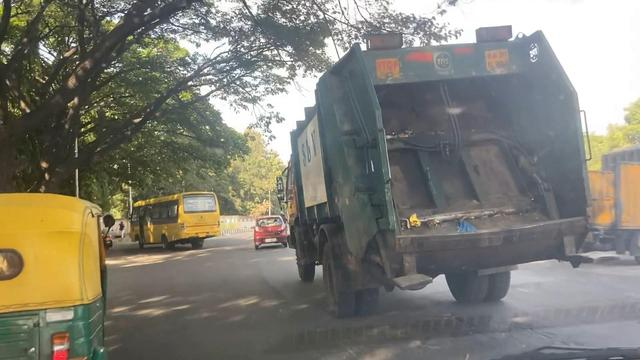HMV: (287, 34, 575, 303), (131, 191, 218, 249)
LMV: (253, 215, 288, 246)
RoadDamages: (318, 313, 580, 360), (257, 264, 298, 315)
